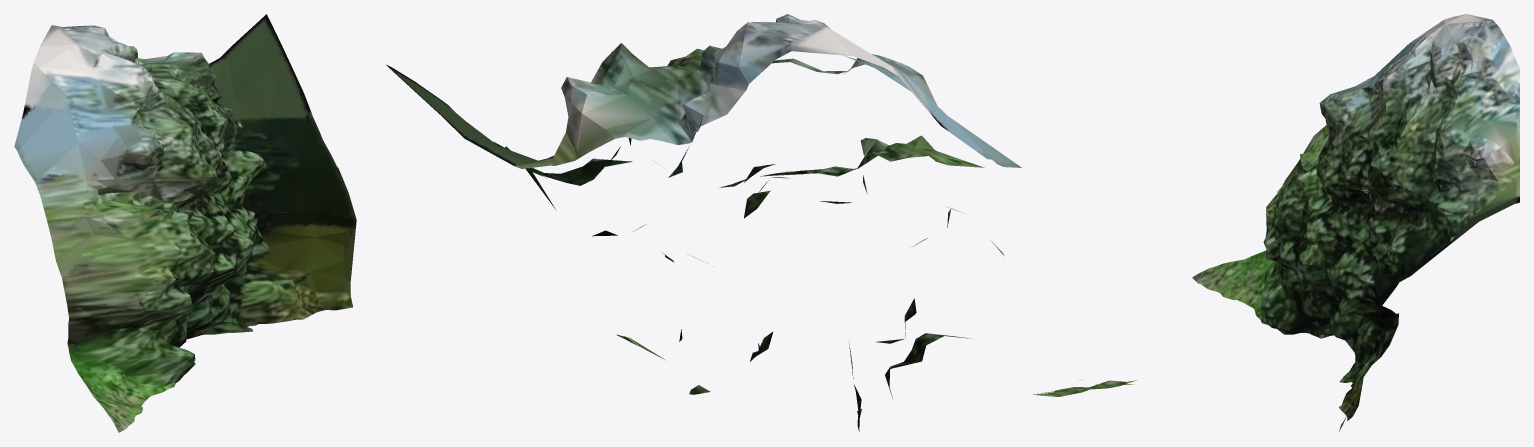
3 renders of one model, left to right at view 1: azimuth 30°, elevation 25°; view 2: azimuth 150°, elevation 25°; view 3: azimuth 270°, elevation 25°, orthographic. The views are drawn at different scales.
Size of the model in its own units: 6.7 by 5.97 by 5.97.
Materials: 3 (3 with a texture image).
